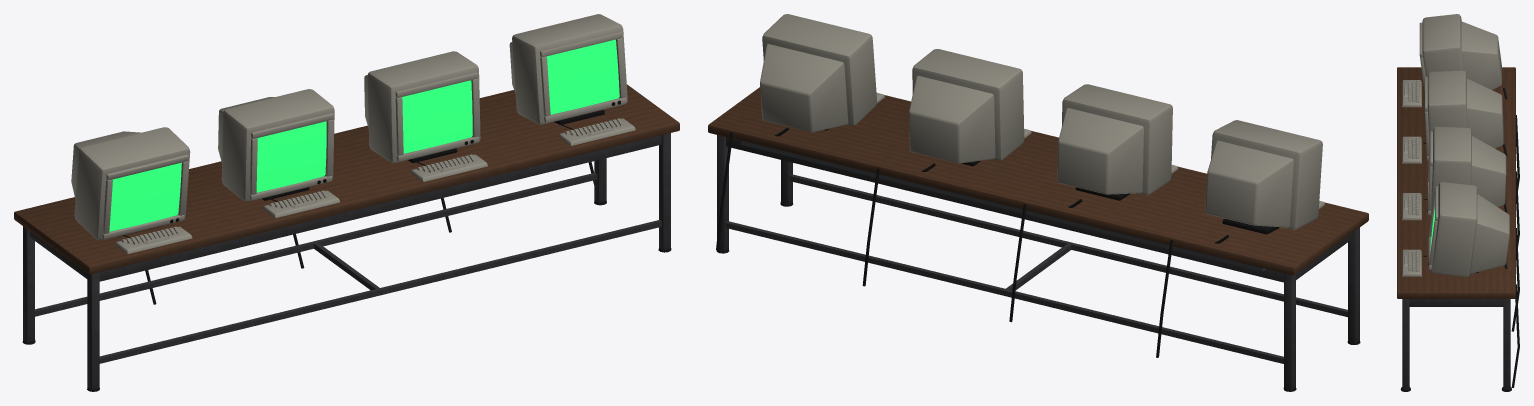
The model's file is crt_causes.glb.
3 views of the same model, side by side, from view 1: azimuth 30°, elevation 25°; view 2: azimuth 150°, elevation 25°; view 3: azimuth 270°, elevation 25° (orthographic). The views are drawn at different scales.
Parts seen in each view (by area): view 1: deskTable, c0Shell, c1Shell, c2Shell, c3Shell, causeScreen3, causeScreen2, causeScreen1, causeScreen0, deskGear; view 2: deskTable, c3Shell, c2Shell, c1Shell, c0Shell, deskGear; view 3: deskTable, c3Shell, c0Shell, c2Shell, c1Shell, deskGear, k1Keys, k3Keys, k0Keys, k2Keys.
Part boxes in pixels (<box>): deskTable: <box>14,84,679,391</box>; c0Shell: <box>71,127,190,239</box>; c1Shell: <box>218,89,334,201</box>; c2Shell: <box>364,51,480,162</box>; c3Shell: <box>509,14,627,124</box>; causeScreen3: <box>546,39,619,114</box>; causeScreen2: <box>402,80,472,153</box>; causeScreen1: <box>256,121,326,192</box>; causeScreen0: <box>109,162,181,231</box>; deskGear: <box>115,118,635,304</box>; deskTable: <box>708,87,1368,391</box>; c3Shell: <box>760,14,877,132</box>; c2Shell: <box>909,49,1024,166</box>; c1Shell: <box>1057,84,1172,200</box>; c0Shell: <box>1205,120,1322,234</box>; deskGear: <box>716,93,1324,357</box>; deskTable: <box>1397,67,1515,391</box>; c3Shell: <box>1428,182,1509,277</box>; c0Shell: <box>1419,14,1501,90</box>; c2Shell: <box>1427,126,1506,215</box>; c1Shell: <box>1424,70,1503,160</box>; deskGear: <box>1401,80,1519,387</box>; k1Keys: <box>1404,136,1419,158</box>; k3Keys: <box>1404,249,1419,271</box>; k0Keys: <box>1404,80,1419,102</box>; k2Keys: <box>1404,193,1419,215</box>.
Bounding box in the file's own units: 3.6 × 1.24 × 0.8281.
Materials: 9 (3 with a texture image).
